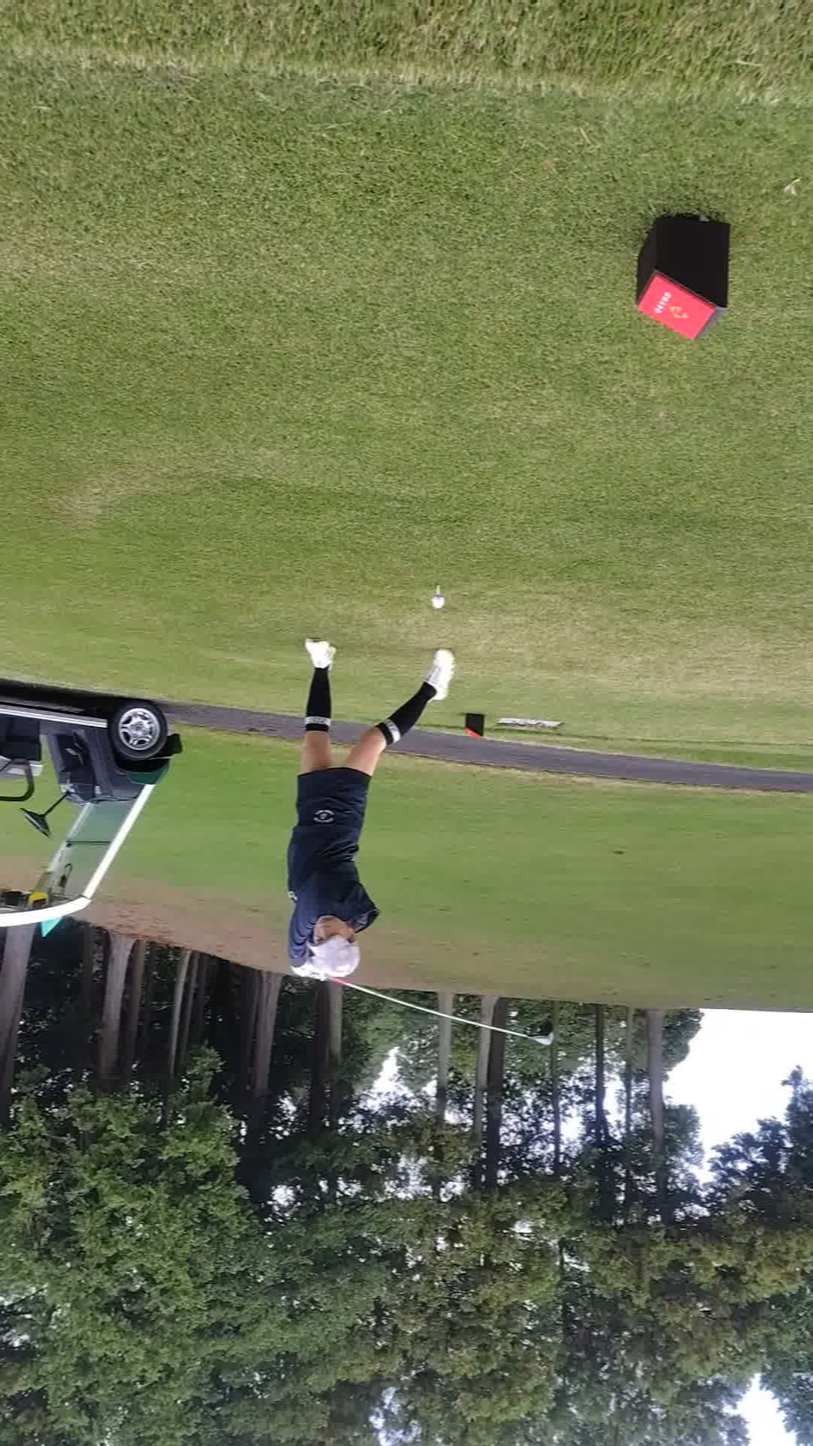clubhead: (498, 944, 619, 1098)
